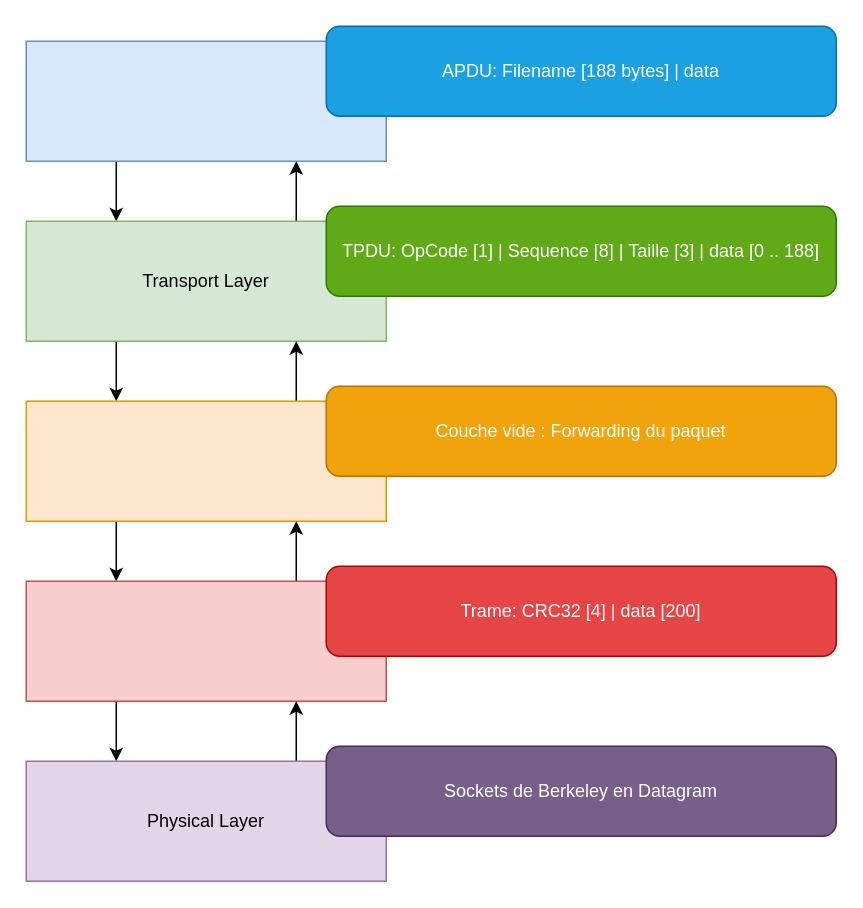
This 863x908 diagram has some shape labels left out. Here are the shapes that lost their labels. From the top down, the centre of each, then its label:
At [205,100]: "Application Layer".
At [205,460]: "Network Layer".
At [205,640]: "DataLink Layer".
